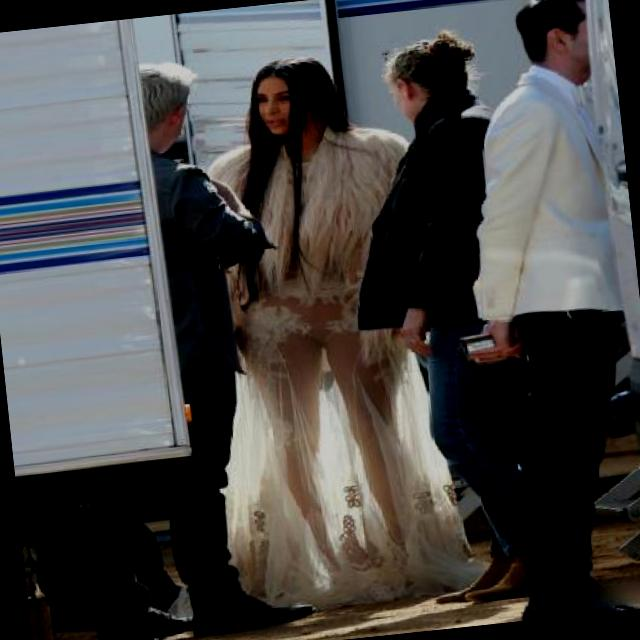Person: (189, 34, 493, 640)
